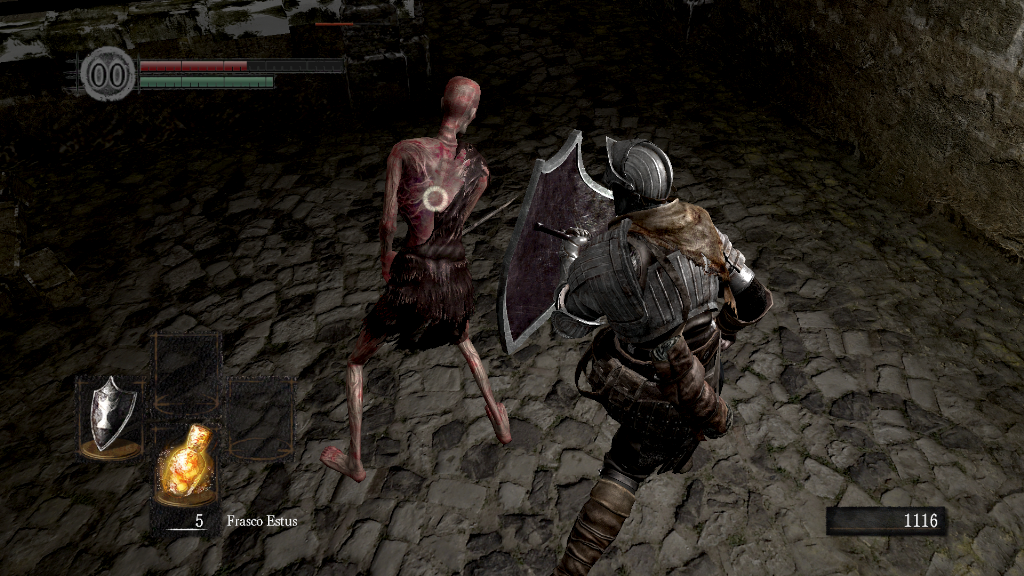health: (138, 58, 343, 71)
hollow: (319, 74, 511, 485)
humanity: (80, 45, 136, 102)
player: (496, 126, 778, 576)
souls: (825, 506, 945, 536)
stamina: (138, 74, 274, 88)
